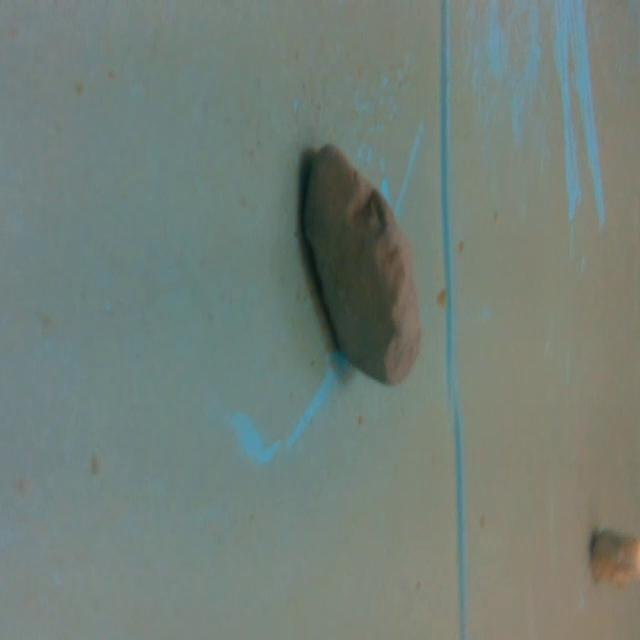rock: (294, 134, 426, 395)
